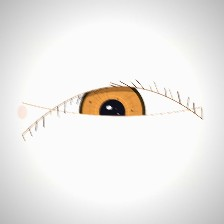hemorrhage_spot: (44, 99, 120, 160)
